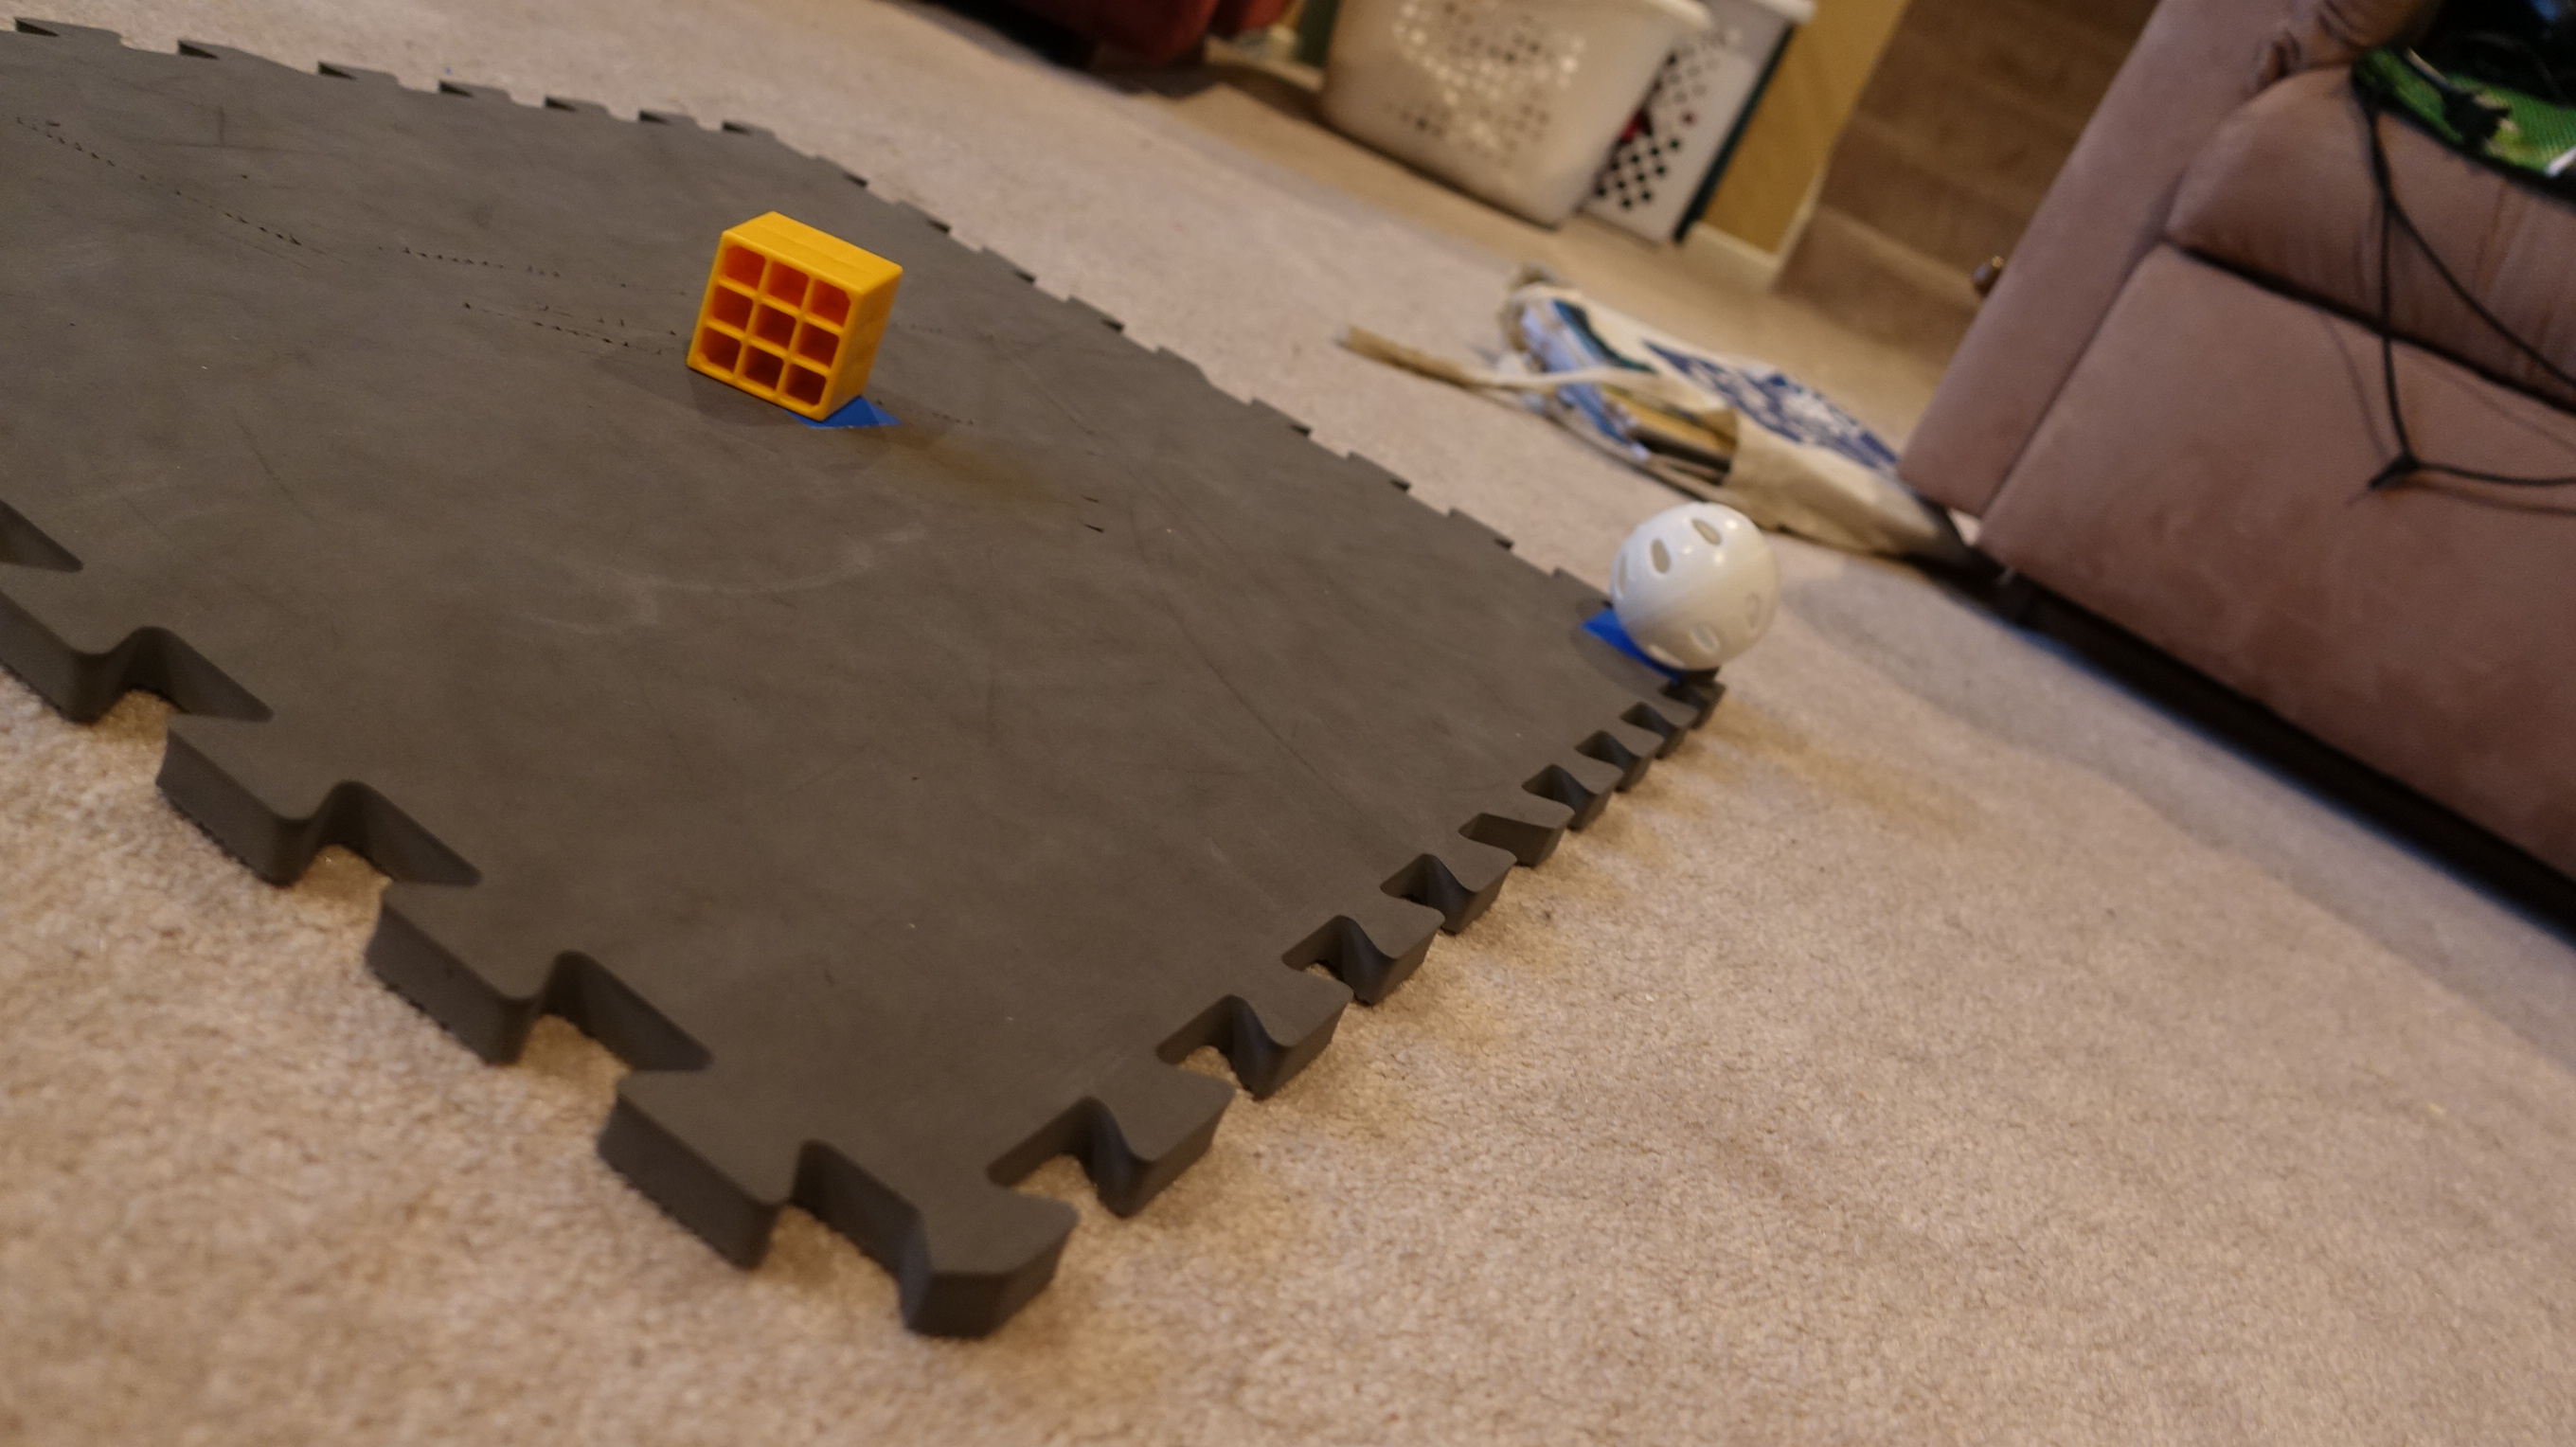gold: (681, 205, 906, 430)
silver: (1608, 499, 1782, 678)
